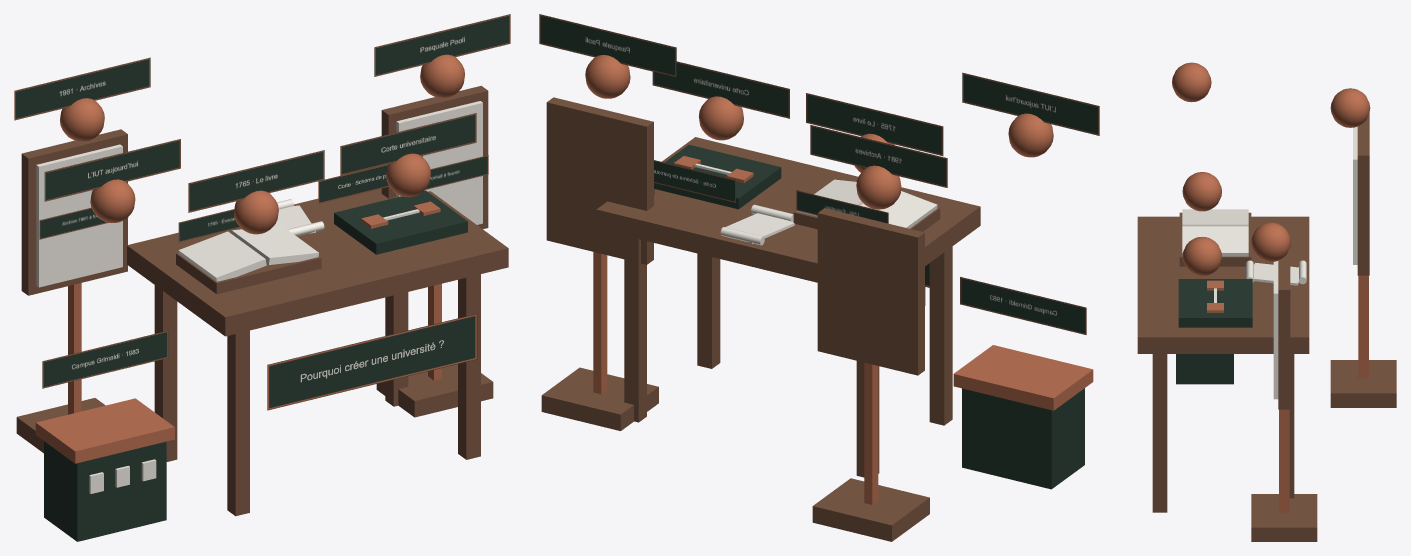
The model's file is iut-scene-v1.glb.
3 renders of one model, left to right at view 1: azimuth 30°, elevation 25°; view 2: azimuth 150°, elevation 25°; view 3: azimuth 270°, elevation 25°, orthographic. The views are drawn at different scales.
Visible parts, largest first — view 1: table, iut, reouverture, paoli, Label_57, naissance, corte, Label_64, Label_60, Label_66, Label_58, Label_62 (+6 smaller); view 2: table, reouverture, paoli, iut, corte, Label_62, Label_64, Label_58, Label_60, Label_66, Label_59, naissance (+3 smaller); view 3: table, paoli, reouverture, corte, naissance, iut, document.
Part boxes in pixels (x1,y1,x2,y2): table: (127, 188, 508, 516); iut: (35, 179, 174, 541); reouverture: (16, 98, 127, 453); paoli: (376, 54, 493, 417); Label_57: (267, 313, 477, 410); naissance: (176, 190, 321, 294); corte: (334, 153, 467, 254); Label_64: (14, 57, 150, 120); Label_60: (188, 150, 324, 212); Label_66: (340, 113, 476, 175); Label_58: (44, 139, 180, 201); Label_62: (374, 14, 510, 76); table: (596, 137, 980, 477); reouverture: (812, 165, 929, 541); paoli: (541, 55, 658, 430); iut: (953, 113, 1093, 489); corte: (654, 96, 781, 209); Label_62: (539, 14, 676, 77); Label_64: (810, 125, 947, 187); Label_58: (962, 72, 1099, 135); Label_60: (806, 93, 943, 155); Label_66: (652, 61, 789, 118); Label_59: (960, 277, 1086, 334); naissance: (793, 133, 940, 231); table: (1137, 216, 1309, 512); paoli: (1251, 222, 1317, 541); reouverture: (1330, 88, 1396, 407); corte: (1178, 236, 1252, 327); naissance: (1179, 172, 1251, 266); iut: (1172, 62, 1233, 384); document: (1246, 260, 1306, 285).
Bounding box in the file's own units: 1.95 × 1.34 × 1.01.
15 materials, 11 textured.
